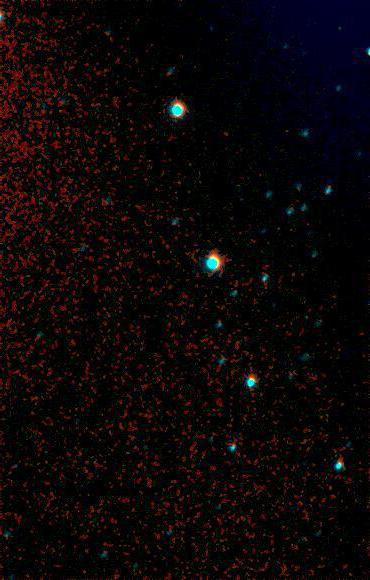star: (211, 118, 241, 148)
